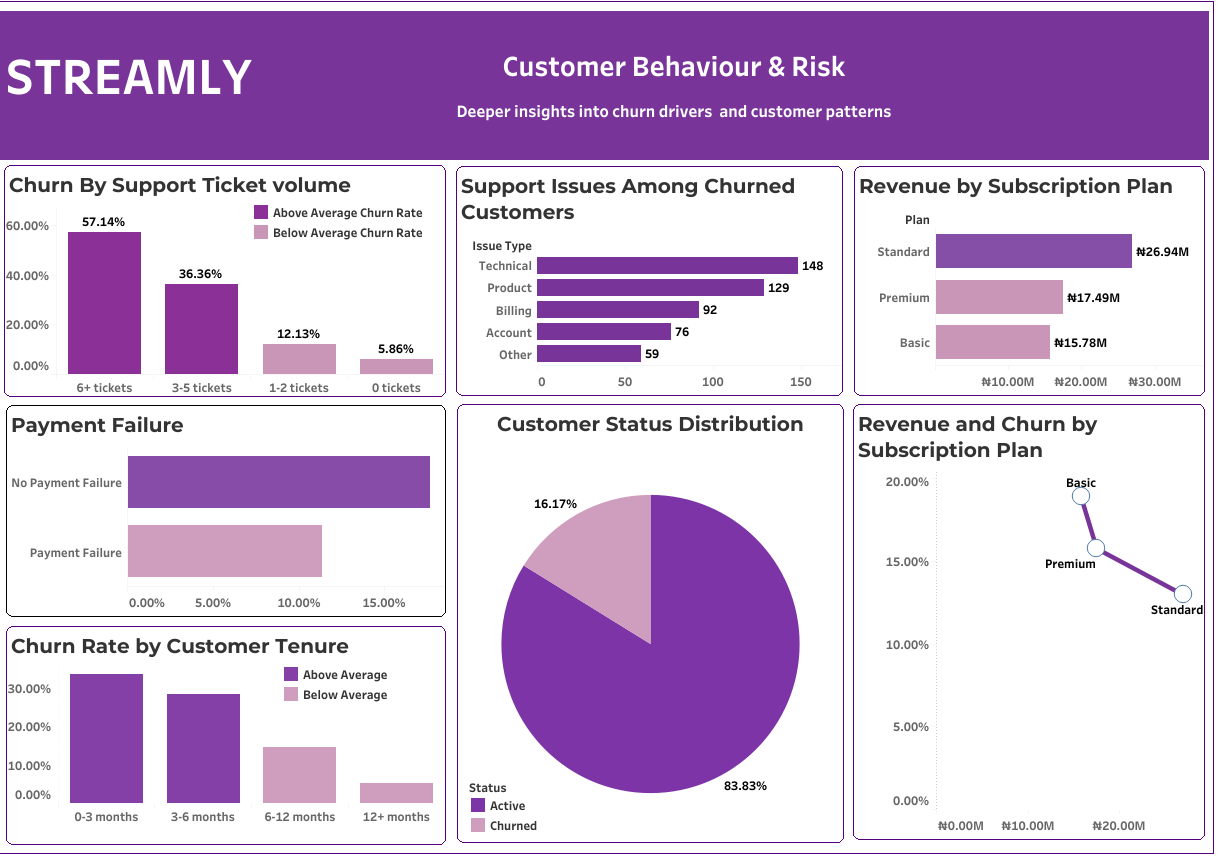

What the dashboard file says about the page in this screenshot:
{"tool":"tableau","page":{"name":"Dashboard 2","canvas":[1000,1000],"units":"permille","ordinal":1},"visuals":[{"type":"text","box":[2.6,32.6,230.9,105.8]},{"type":"text","box":[324,41.9,457.4,111.6]},{"type":"worksheet","title":"Support Ticket Group","mark":"Bar","rows":["Calculation_0531662846451712"],"cols":["Calculation_0757064531468289"],"box":[3.5,191.9,361.7,269.8]},{"type":"worksheet","title":"Support Issues Among Churned Customers","mark":"Automatic","rows":["issue_type"],"cols":["ticket_id"],"box":[374,193,316.9,267.4]},{"type":"worksheet","title":"Revenue by Subscription Plan","mark":"Bar","rows":["plan"],"cols":["Calculation_0531662869487619"],"box":[699.7,193,288,267.4]},{"type":"legend","title":"Support Ticket Group","param":"[federated.07hnzqo0yb98tu105zv501t4bqjx].[usr:Calculation_0074266515701760:nk:3]","box":[205.4,234.9,154.5,67.4]},{"type":"worksheet","title":"Customer Status Distribution","mark":"Pie","box":[374.9,469.8,316.9,510.5]},{"type":"worksheet","title":"Revenue and Churn by Subscription Plan","mark":"Line","rows":["Calculation_0531662846451712","Calculation_0531662846451712"],"cols":["Calculation_0531662869487619"],"box":[698.9,469.8,288.9,507]},{"type":"worksheet","title":"Payment Failure","mark":"Automatic","rows":["Calculation_0531662865215490"],"cols":["Calculation_0531662846451712"],"box":[5.3,470.9,360,246.5]},{"type":"worksheet","title":"Churn Rate by Customer Tenure","mark":"Bar","rows":["Calculation_0531662846451712"],"cols":["Calculation_0531662871953413"],"box":[5.3,727.9,360,254.7]},{"type":"legend","title":"Churn Rate by Customer Tenure","param":"[federated.07hnzqo0yb98tu105zv501t4bqjx].[usr:Calculation_0074266522058756:nk]","box":[230,772.1,122.9,75.6]},{"type":"legend","title":"Customer Status Distribution","param":"[federated.07hnzqo0yb98tu105zv501t4bqjx].[none:status:nk]","box":[383.7,902.3,69.4,68.6]}]}

Visuals, with their boxes on the dashboard's canvas, which has no fixed pixel size, in thousandths of its width and height (x1, y1, x2, y2). These are canvas units, not pixel positions in the 1219x859 screenshot, which may show the page scaled, cropped or inside an application window:
text: crop(3, 33, 234, 138)
text: crop(324, 42, 781, 154)
"Support Ticket Group" worksheet (Bar marks): crop(4, 192, 365, 462)
"Support Issues Among Churned Customers" worksheet: crop(374, 193, 691, 460)
"Revenue by Subscription Plan" worksheet (Bar marks): crop(700, 193, 988, 460)
"Support Ticket Group" legend: crop(205, 235, 360, 302)
"Customer Status Distribution" worksheet (Pie marks): crop(375, 470, 692, 980)
"Revenue and Churn by Subscription Plan" worksheet (Line marks): crop(699, 470, 988, 977)
"Payment Failure" worksheet: crop(5, 471, 365, 717)
"Churn Rate by Customer Tenure" worksheet (Bar marks): crop(5, 728, 365, 983)
"Churn Rate by Customer Tenure" legend: crop(230, 772, 353, 848)
"Customer Status Distribution" legend: crop(384, 902, 453, 971)
